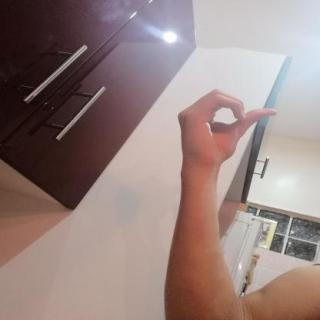WAW: (165, 82, 286, 173)
